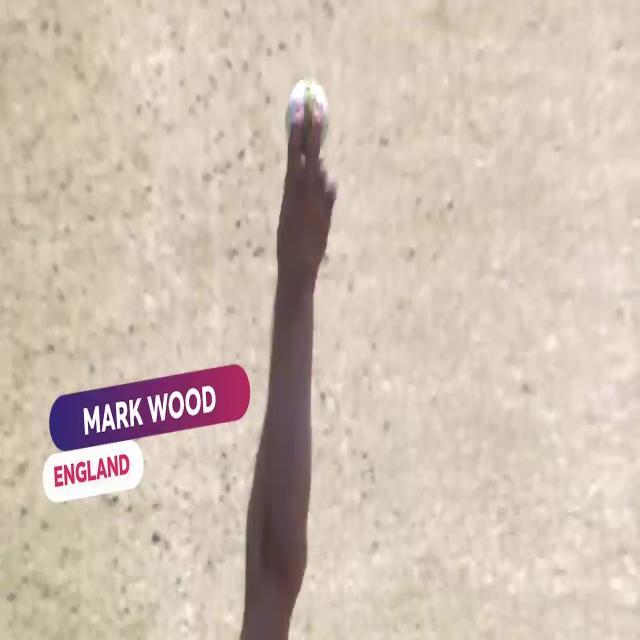ball: (285, 76, 329, 156)
